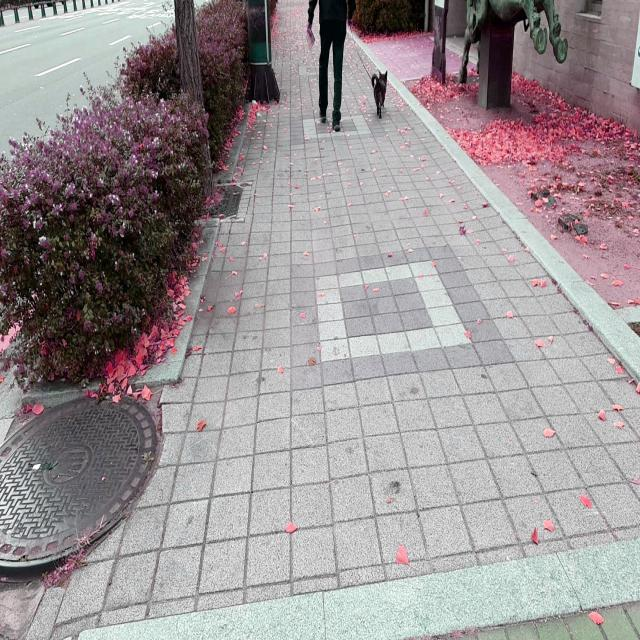Leashed_Dog: (334, 5, 389, 119)
